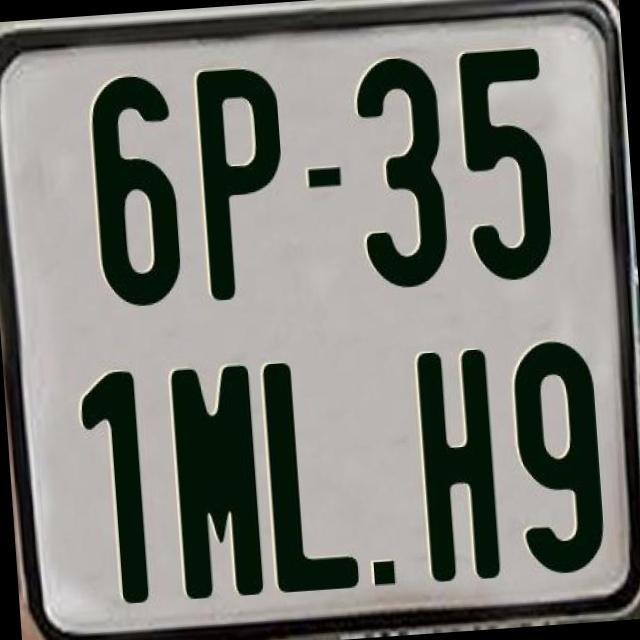1: (76, 367, 150, 612)
3: (350, 55, 451, 292)
5: (454, 46, 552, 286)
6: (84, 73, 185, 314)
9: (510, 337, 612, 582)
H: (416, 347, 502, 586)
L: (259, 357, 359, 599)
M: (168, 360, 266, 605)
P: (196, 60, 292, 299)
